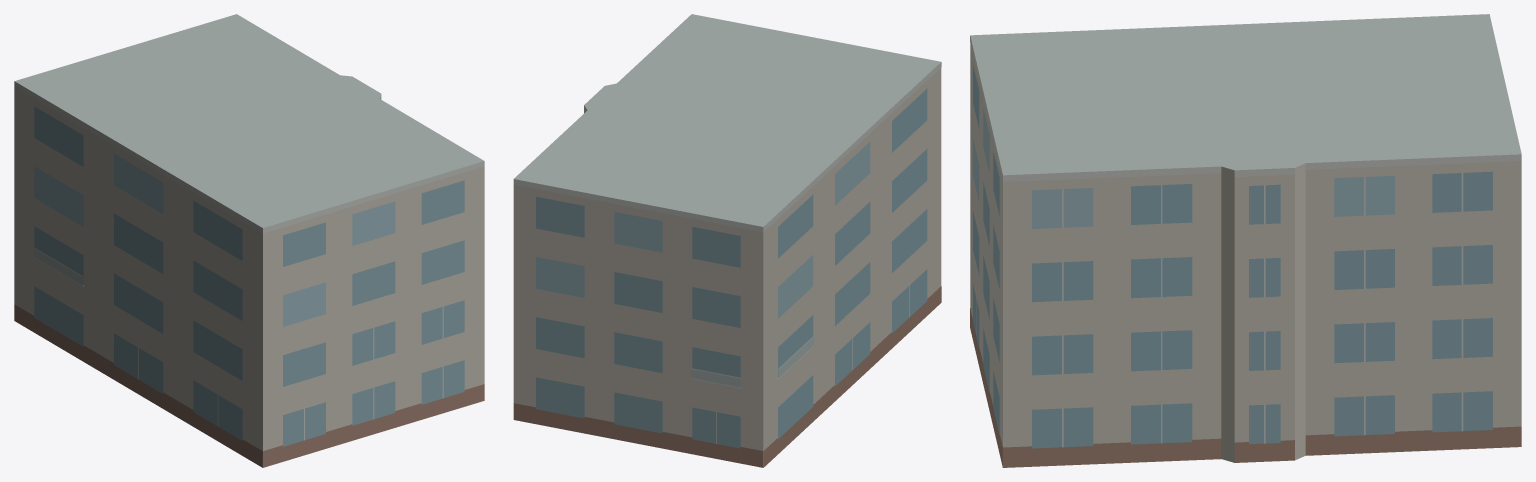
File: survey-upis-32954954.glb
3 views of the same model, side by side, from view 1: azimuth 30°, elevation 25°; view 2: azimuth 150°, elevation 25°; view 3: azimuth 270°, elevation 25° (orthographic). The views are drawn at different scales.
Parts seen in each view (by area): view 1: survey-upis-32954954.tmp; view 2: survey-upis-32954954.tmp; view 3: survey-upis-32954954.tmp.
Part boxes in pixels (x1,y1,x2,y2): survey-upis-32954954.tmp: [14, 14, 484, 467]; survey-upis-32954954.tmp: [513, 14, 941, 467]; survey-upis-32954954.tmp: [970, 14, 1521, 467].
Size of the model in its own units: 12.89 by 10.9 by 18.63.
